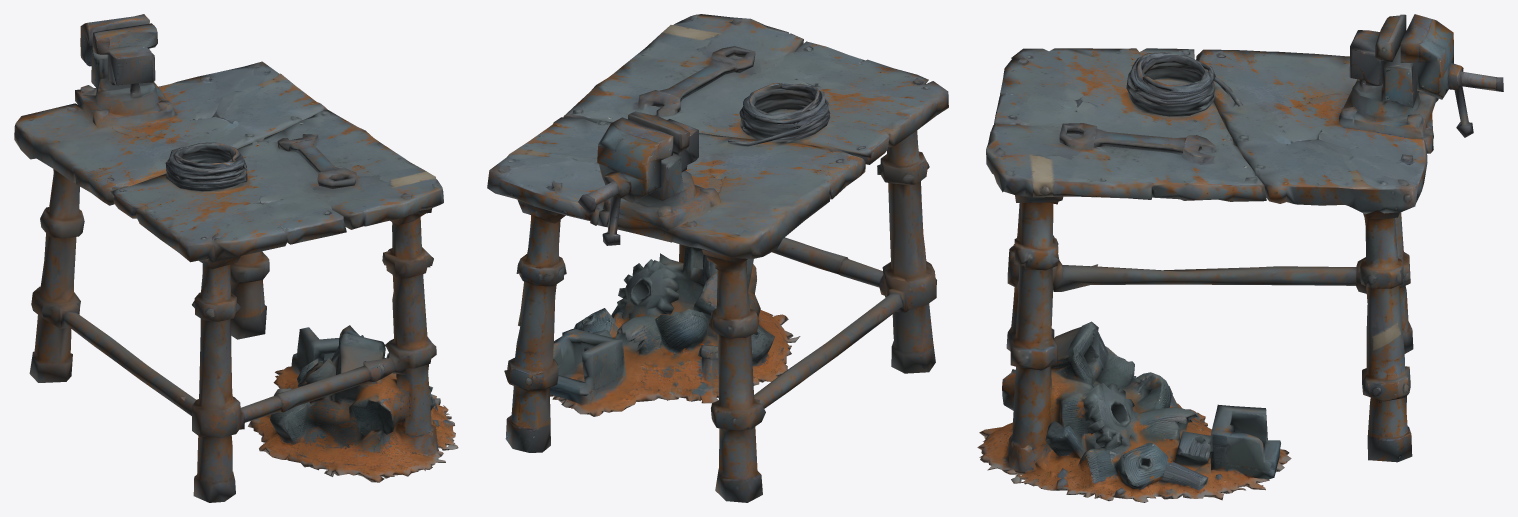
The model's file is workbench.glb.
3 renders of one model, left to right at view 1: azimuth 30°, elevation 25°; view 2: azimuth 150°, elevation 25°; view 3: azimuth 270°, elevation 25°, orthographic. The views are drawn at different scales.
Parts seen in each view (by area): view 1: tripo_node_923fbe8c-fc71-4ec9-8a7a-9804c8376ae6; view 2: tripo_node_923fbe8c-fc71-4ec9-8a7a-9804c8376ae6; view 3: tripo_node_923fbe8c-fc71-4ec9-8a7a-9804c8376ae6.
Part boxes in pixels (bbox=[...]): tripo_node_923fbe8c-fc71-4ec9-8a7a-9804c8376ae6: bbox=[14, 14, 458, 502]; tripo_node_923fbe8c-fc71-4ec9-8a7a-9804c8376ae6: bbox=[487, 14, 948, 502]; tripo_node_923fbe8c-fc71-4ec9-8a7a-9804c8376ae6: bbox=[977, 14, 1503, 502].
Bounding box in the file's own units: 1.15 × 1.2 × 1.55.
1 material, 1 textured.
